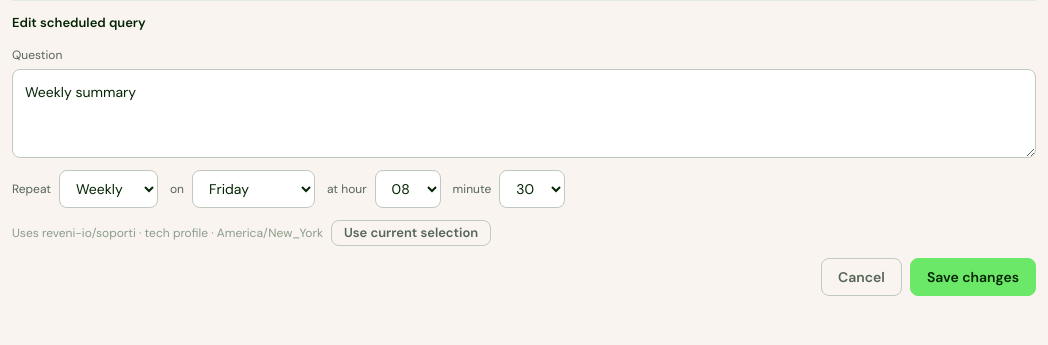
Test case: ScheduleForm › shows the server error when saving the edit fails
This screenshot has width=1048, height=345.
Click the button "Save changes": (973, 277) [910,258,1036,296]
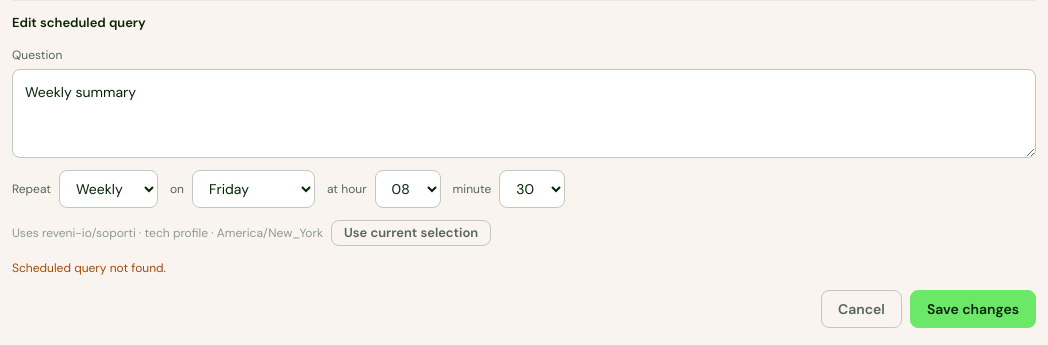
Expected: the text box labelled "Question" holds "Weekly summary", [12,69,1036,158]
Result: the text "Scheduled query not found." is shown at [12,260,166,276]
